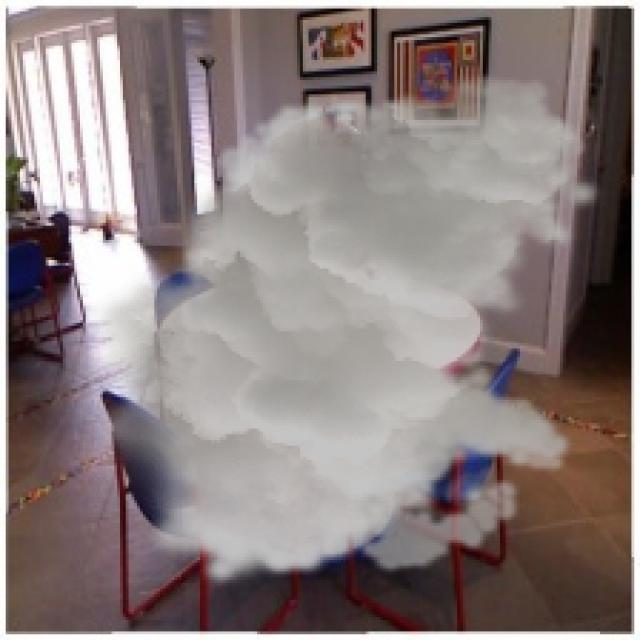Smoke: (80, 71, 606, 588)
